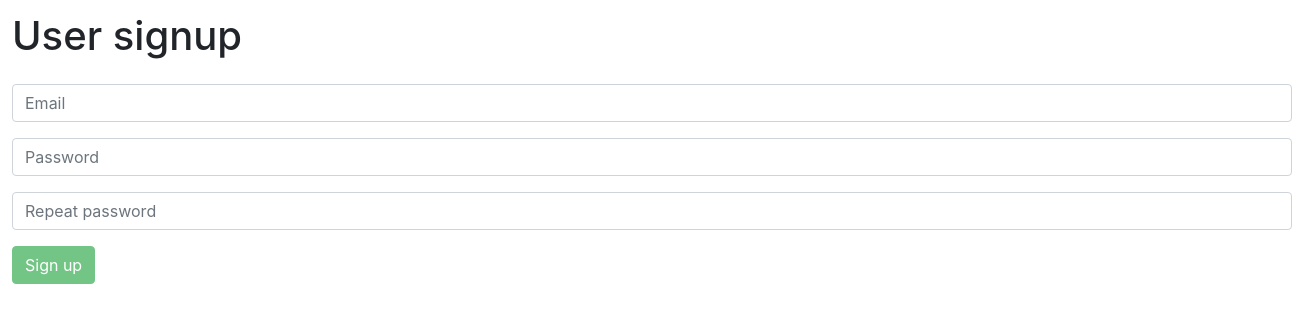
Test: Signup › should fail validation when email is not valid
In the field with placeholder "Email": {"x": 652, "y": 103} [12,84,1292,122], type "invalid.email"
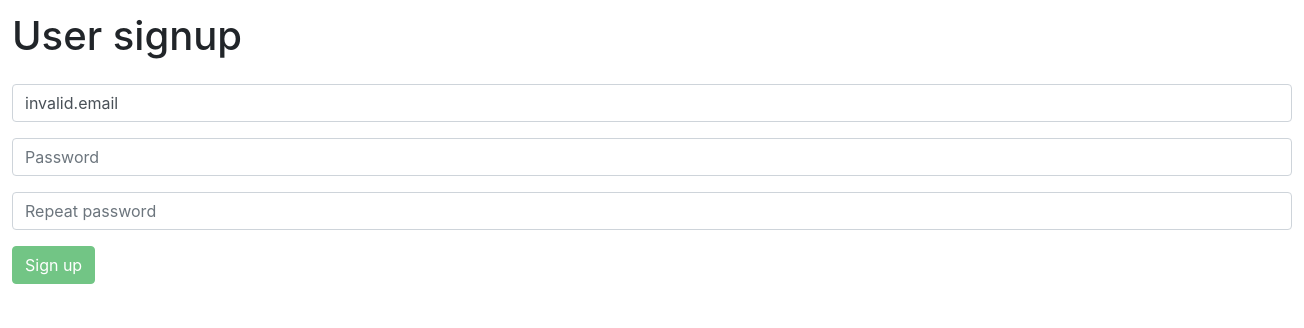
In the password field with placeholder "Password": {"x": 652, "y": 157} [12,138,1292,176], type "password"
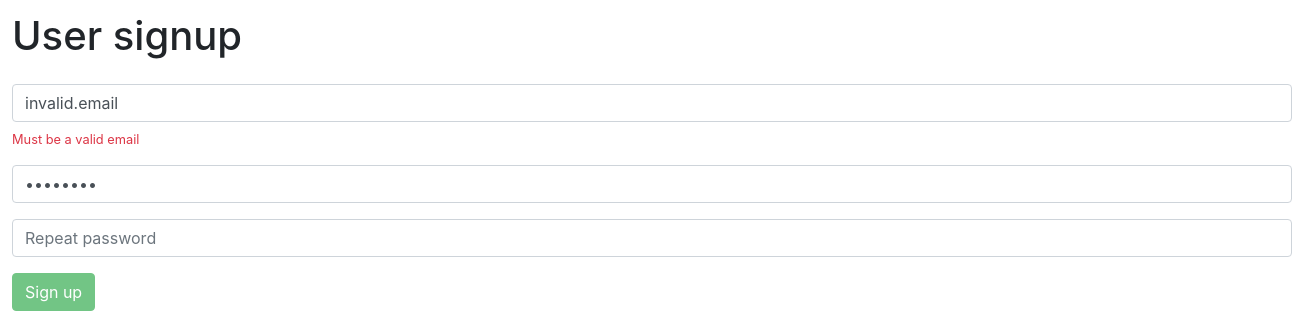
Expected: the button "Sign up" is disabled, [12,273,95,311]
Expected: the text "Must be a valid email" is shown, [12,132,139,147]
